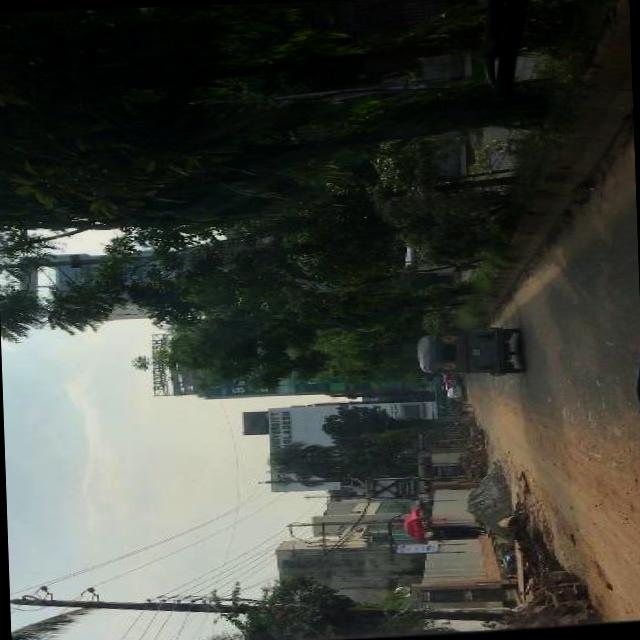bus: (434, 376, 452, 420)
car: (448, 386, 464, 402)
motorcycle: (418, 327, 522, 380)
truck: (399, 242, 466, 274)
